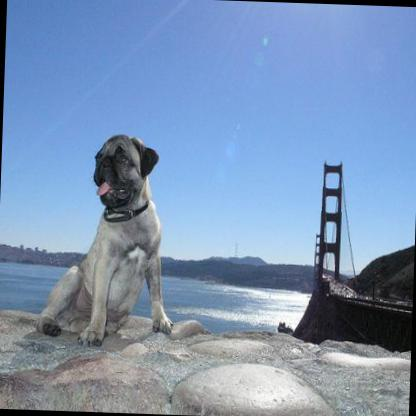pug: (36, 130, 178, 346)
